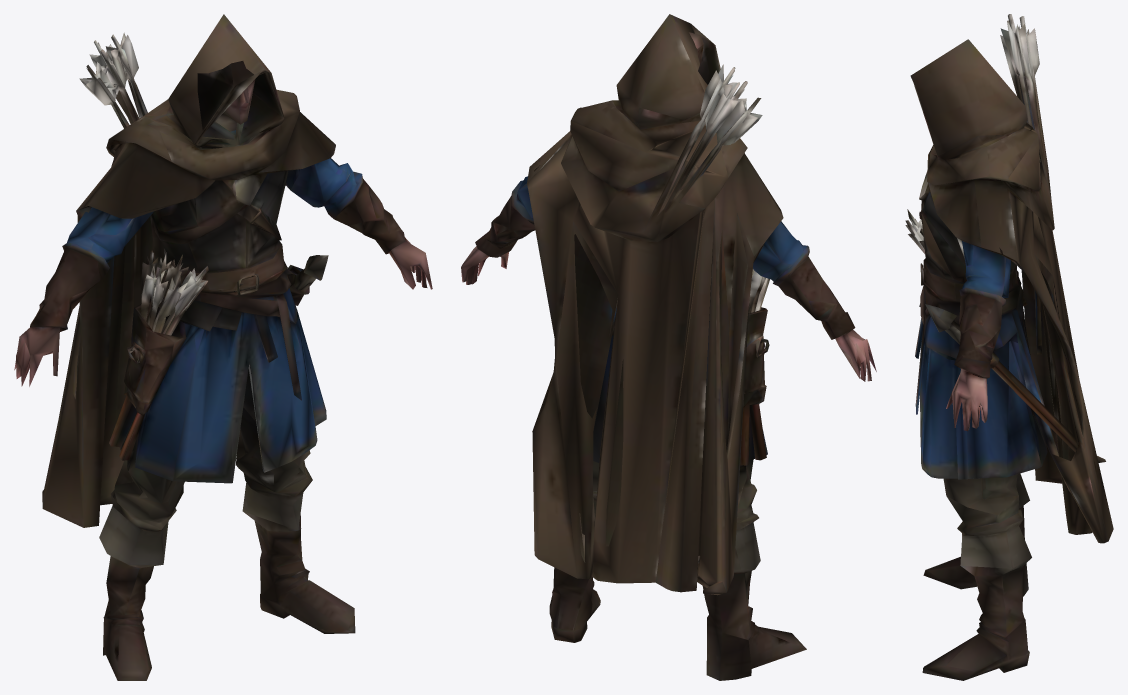
The model's file is hum_arch_lo.glb.
The picture shows the model from 3 angles, left to right: view 1: azimuth 30°, elevation 25°; view 2: azimuth 150°, elevation 25°; view 3: azimuth 270°, elevation 25°; orthographic projection. The views are drawn at different scales.
Visible parts, largest first — view 1: node_0; view 2: node_0; view 3: node_0.
Part boxes in pixels (x1,y1,x2,y2): node_0: (14,14,432,680); node_0: (461,14,876,680); node_0: (905,14,1113,680).
Bounding box in the file's own units: 0.7381 × 1.09 × 0.3509.
Materials: 1 (1 with a texture image).
